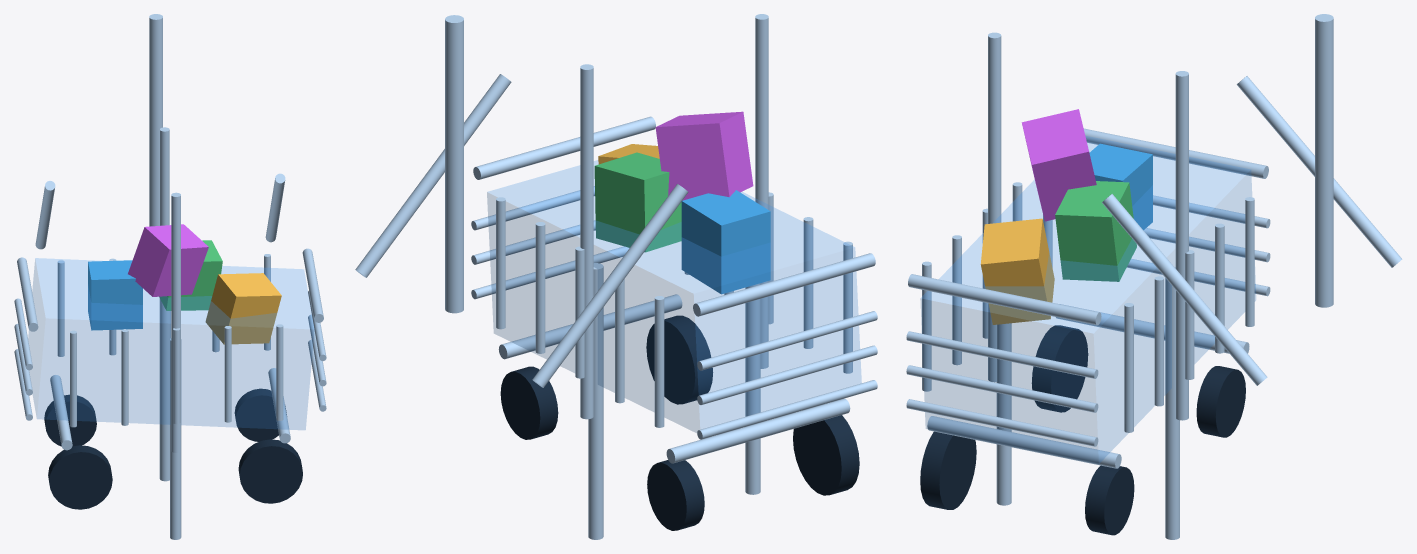
Rendered from cart.glb.
The picture shows the model from 3 angles, left to right: view 1: azimuth 30°, elevation 25°; view 2: azimuth 150°, elevation 25°; view 3: azimuth 270°, elevation 25°; orthographic projection. The views are drawn at different scales.
Parts seen in each view (by area): view 1: basket-shell, product-3, product-4, product-1, wheel-front-right, wheel-front-left, handle-grip, base-back, front-top-bar, wheel-back-right, product-2, wheel-back-left (+19 smaller); view 2: basket-shell, product-1, product-4, product-2, handle-grip, back-top-bar, wheel-front-left, wheel-front-right, handle-left, base-back, wheel-back-left, front-top-bar (+21 smaller); view 3: basket-shell, product-2, product-3, handle-grip, product-4, back-top-bar, wheel-front-right, handle-right, base-back, front-top-bar, wheel-front-left, base-right (+21 smaller).
Boxes of the visible parts, x1,y1,x2,y2 form: basket-shell: (28, 258, 314, 429); product-3: (205, 273, 281, 344); product-4: (128, 224, 208, 296); product-1: (88, 260, 142, 330); wheel-front-right: (238, 439, 302, 503); wheel-front-left: (48, 445, 112, 509); handle-grip: (149, 14, 162, 226); base-back: (159, 298, 170, 481); front-top-bar: (171, 192, 180, 452); wheel-back-right: (234, 388, 287, 441); product-2: (159, 240, 222, 310); wheel-back-left: (44, 394, 96, 446); basket-shell: (487, 160, 861, 432); product-1: (681, 190, 770, 294); product-4: (655, 111, 753, 200); product-2: (594, 152, 681, 252); handle-grip: (445, 15, 463, 313); back-top-bar: (580, 64, 593, 419); wheel-front-left: (793, 415, 859, 495); wheel-front-right: (646, 315, 713, 404); handle-left: (532, 184, 688, 387); base-back: (588, 263, 603, 539); wheel-back-left: (647, 460, 704, 530); front-top-bar: (755, 14, 768, 368); basket-shell: (920, 136, 1255, 463); product-2: (1055, 181, 1136, 281); product-3: (980, 218, 1054, 324); handle-grip: (1315, 14, 1333, 307); product-4: (1021, 109, 1096, 221); back-top-bar: (1175, 71, 1188, 420); wheel-front-right: (920, 431, 976, 509); handle-right: (1102, 194, 1267, 385); base-back: (1165, 267, 1179, 539); front-top-bar: (988, 32, 1001, 382); wheel-front-left: (1031, 325, 1088, 412); base-right: (927, 416, 1121, 468).
Bounding box in the file's own units: 1.84 × 2.27 × 1.86.
